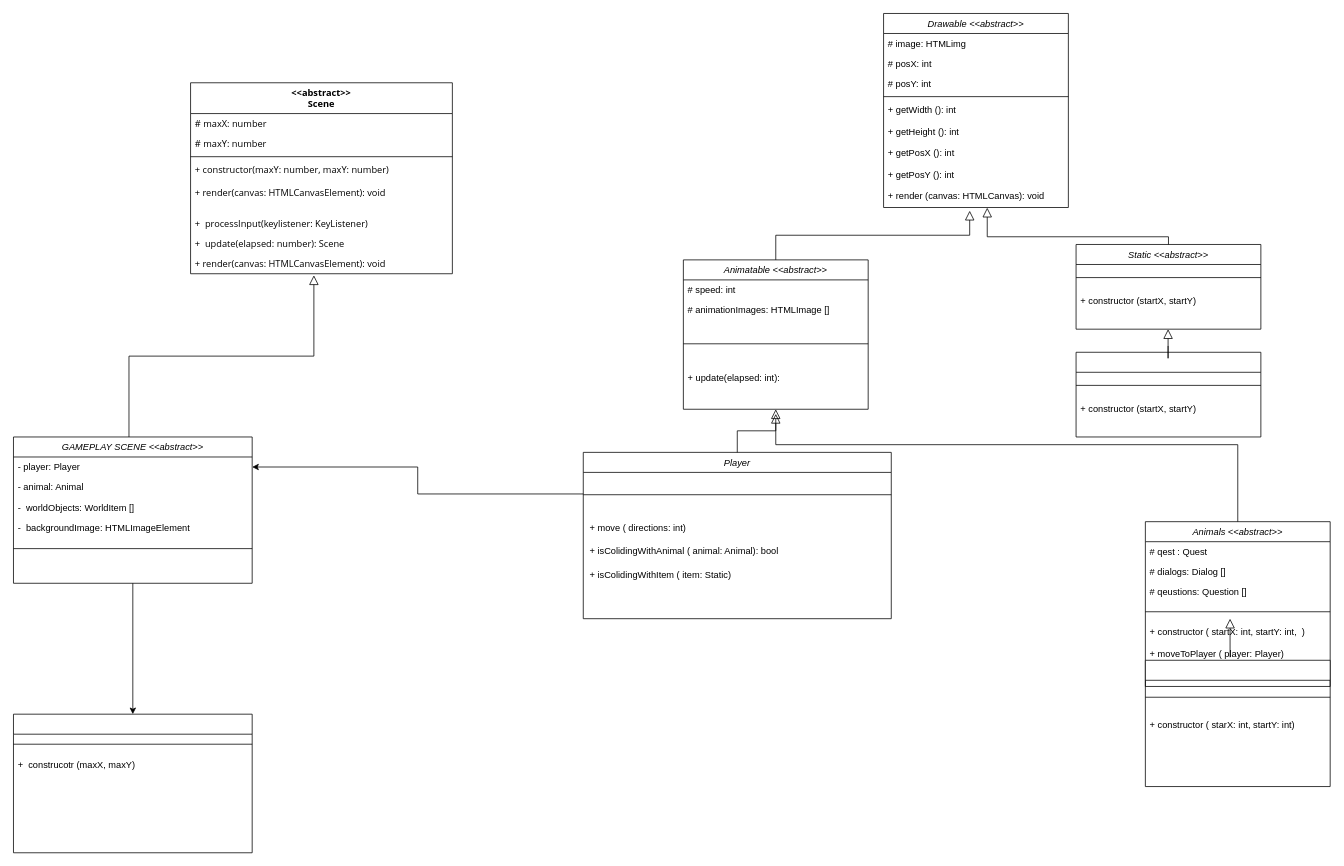
The diagram is 1344 pixels wide and 866 high, and some of its shapes have lost their labels. Each missing label, with the box of its shape:
FOREST/VILLAGE et..: (13, 713, 252, 853)
Fox/And all animals: (1145, 660, 1330, 787)
WorldItem: (1075, 352, 1261, 437)
